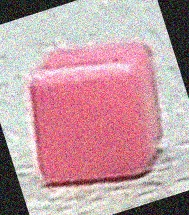orange_cube: (28, 41, 168, 191)
